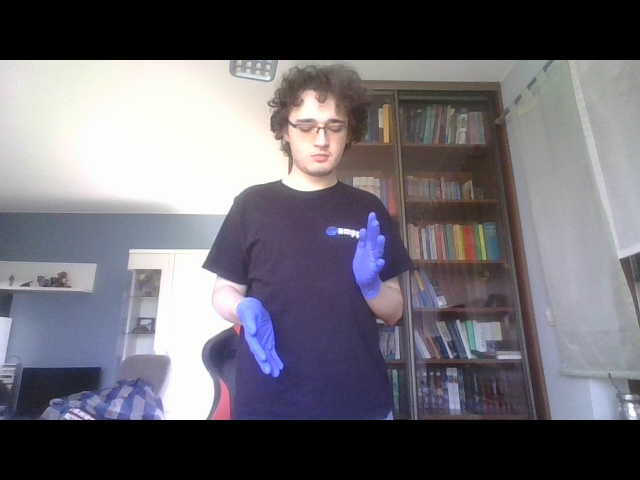glove: (235, 295, 286, 381), (350, 210, 386, 302)
